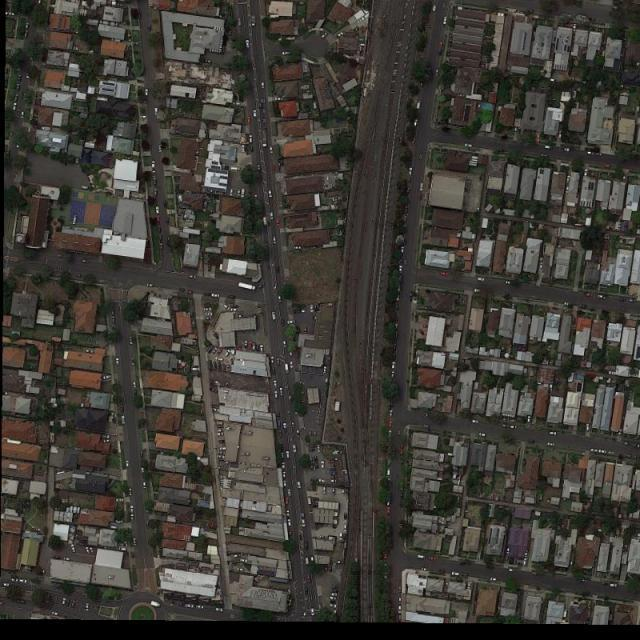vehicle: (238, 282, 257, 291), (262, 127, 268, 147), (320, 32, 329, 40), (442, 16, 449, 26), (284, 363, 290, 374), (223, 350, 231, 358), (217, 347, 224, 356), (211, 347, 218, 356), (150, 600, 159, 607), (214, 356, 225, 361), (209, 388, 218, 394), (470, 418, 479, 424), (417, 554, 426, 560), (272, 312, 277, 322), (102, 375, 112, 380), (209, 359, 214, 369), (420, 182, 425, 192), (310, 607, 315, 617), (597, 294, 607, 299), (230, 166, 240, 171), (251, 16, 256, 26), (544, 145, 554, 150), (208, 346, 214, 354), (146, 282, 154, 288), (336, 32, 344, 38), (24, 22, 30, 30), (416, 102, 422, 110), (478, 432, 486, 438), (250, 342, 255, 351), (288, 320, 297, 325), (282, 423, 287, 432), (270, 356, 275, 365), (240, 144, 245, 153), (465, 143, 474, 148), (331, 486, 336, 495), (329, 596, 338, 601), (321, 461, 326, 470), (451, 572, 460, 577), (262, 217, 267, 226), (305, 557, 310, 566), (508, 567, 517, 572), (279, 386, 283, 397), (158, 143, 162, 154), (223, 304, 230, 310), (260, 344, 264, 354), (211, 294, 221, 298), (213, 362, 218, 370), (143, 480, 147, 490), (71, 545, 76, 553), (89, 546, 94, 554), (323, 366, 328, 374), (274, 380, 278, 390), (274, 390, 278, 400), (212, 408, 220, 413), (242, 187, 246, 197), (232, 102, 242, 106), (253, 110, 258, 118), (118, 547, 128, 551), (413, 119, 418, 127), (560, 148, 570, 152), (456, 94, 466, 98), (435, 67, 440, 75), (563, 302, 573, 306), (339, 532, 343, 542), (301, 518, 306, 526), (546, 442, 556, 446), (19, 578, 27, 583), (2, 582, 10, 587), (523, 558, 528, 566), (82, 259, 90, 264), (586, 150, 594, 155), (594, 152, 602, 157), (203, 308, 212, 312), (247, 342, 251, 351), (132, 379, 136, 388), (122, 415, 126, 424), (270, 211, 274, 220), (112, 316, 116, 325), (130, 336, 134, 345), (115, 358, 119, 367), (289, 395, 293, 404), (115, 498, 124, 502), (130, 505, 134, 514), (217, 455, 226, 459), (283, 339, 287, 348), (103, 439, 112, 443), (13, 102, 17, 111), (145, 88, 149, 97), (246, 40, 250, 49), (282, 51, 291, 55), (566, 175, 570, 184), (304, 542, 308, 551), (196, 605, 205, 609), (308, 448, 317, 452), (310, 461, 314, 470), (310, 478, 319, 482), (477, 278, 486, 282), (585, 293, 594, 297), (66, 598, 70, 607), (389, 420, 393, 429), (71, 600, 75, 609), (86, 602, 90, 611), (428, 557, 437, 561), (421, 567, 430, 571), (584, 170, 589, 177), (572, 24, 577, 31), (297, 481, 302, 488), (287, 519, 292, 526), (51, 611, 58, 616), (120, 405, 124, 413), (304, 326, 308, 334), (310, 303, 314, 311), (86, 350, 94, 354), (273, 236, 277, 244), (278, 295, 282, 303), (218, 450, 226, 454), (286, 451, 290, 459), (130, 514, 134, 522), (133, 538, 137, 546), (218, 363, 222, 371), (218, 439, 226, 443), (222, 363, 226, 371), (126, 460, 130, 468), (217, 424, 225, 428), (151, 161, 155, 169), (63, 558, 71, 562), (261, 81, 265, 89), (18, 74, 22, 82), (14, 94, 18, 102), (272, 166, 276, 174), (270, 145, 274, 153), (282, 472, 286, 480), (283, 480, 287, 488), (323, 486, 327, 494), (330, 601, 338, 605), (330, 604, 338, 608), (286, 510, 290, 518), (288, 530, 292, 538), (317, 445, 321, 453), (240, 558, 248, 562), (62, 598, 66, 606), (527, 416, 531, 424), (586, 424, 590, 432), (598, 450, 606, 454), (392, 362, 396, 370), (391, 371, 395, 379), (398, 606, 402, 614), (490, 578, 498, 582), (524, 550, 528, 558), (610, 583, 618, 587), (387, 507, 391, 515), (139, 450, 143, 458), (539, 262, 543, 270), (398, 596, 402, 604), (204, 313, 214, 316), (244, 340, 247, 350), (277, 218, 280, 228), (152, 171, 156, 178), (154, 189, 158, 196), (208, 264, 212, 271), (86, 547, 90, 554), (290, 361, 294, 368), (342, 488, 346, 495), (313, 484, 317, 491), (331, 592, 338, 596), (288, 490, 292, 497), (314, 456, 318, 463), (591, 449, 598, 453), (608, 451, 615, 455), (11, 578, 18, 582), (20, 111, 24, 118), (302, 612, 306, 619), (506, 547, 510, 554), (205, 318, 214, 321), (297, 428, 300, 437), (293, 443, 296, 452), (129, 488, 132, 497), (218, 447, 227, 450), (278, 421, 281, 430), (216, 433, 225, 436), (275, 98, 284, 101), (410, 168, 413, 177), (331, 585, 340, 588), (185, 604, 194, 607), (237, 568, 246, 571), (509, 426, 518, 429), (548, 432, 557, 435), (440, 272, 449, 275), (628, 299, 637, 302), (230, 309, 238, 312), (294, 247, 302, 250), (132, 358, 135, 366), (280, 453, 284, 459), (250, 135, 253, 143), (231, 188, 234, 196), (344, 513, 347, 521), (328, 460, 336, 463), (330, 464, 338, 467), (329, 468, 337, 471), (286, 498, 289, 506), (319, 479, 327, 482), (330, 480, 338, 483), (330, 476, 338, 479), (399, 266, 402, 274), (401, 246, 404, 254), (389, 430, 392, 438), (141, 466, 144, 474), (292, 422, 295, 429), (282, 462, 285, 469), (155, 108, 158, 115), (140, 116, 147, 119), (248, 117, 251, 124), (17, 84, 20, 91), (603, 164, 610, 167), (390, 411, 393, 418), (387, 469, 390, 476), (269, 189, 271, 198), (258, 165, 261, 171), (333, 589, 339, 592), (329, 472, 338, 474), (157, 216, 160, 222), (157, 206, 159, 214), (278, 357, 280, 365), (238, 189, 240, 197), (216, 609, 224, 611), (308, 445, 316, 447), (154, 178, 156, 185), (188, 276, 195, 278), (344, 524, 346, 531), (638, 313, 640, 316)
